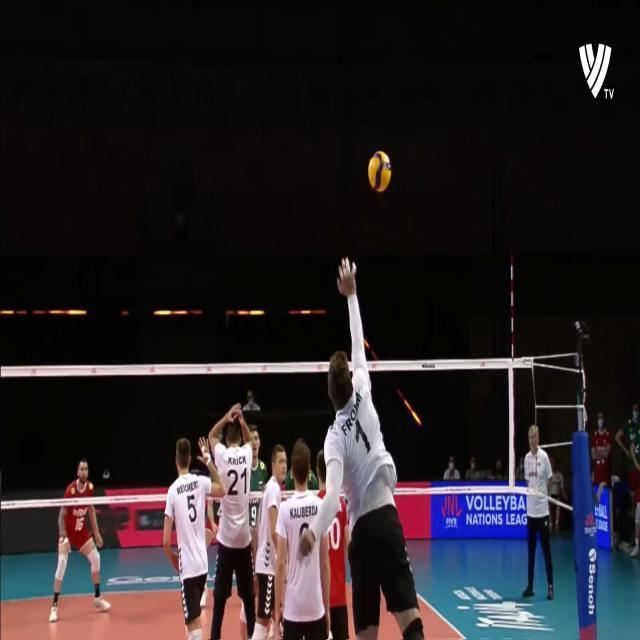volleyball: (367, 150, 392, 190)
